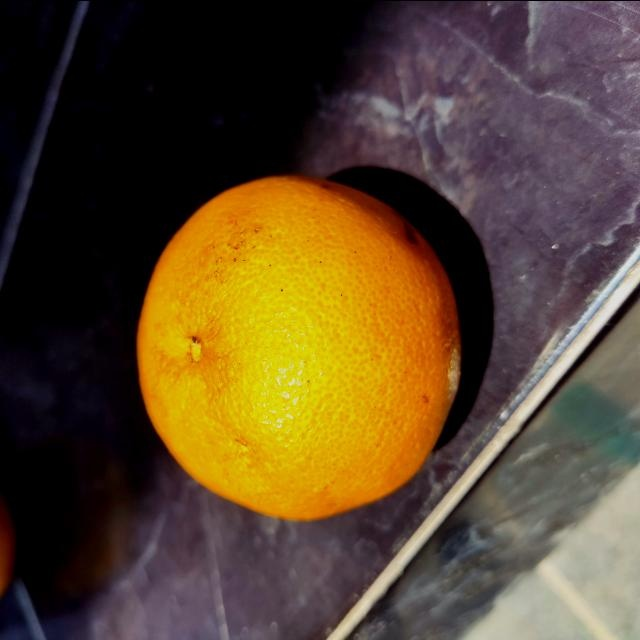agrume: (131, 168, 465, 527)
